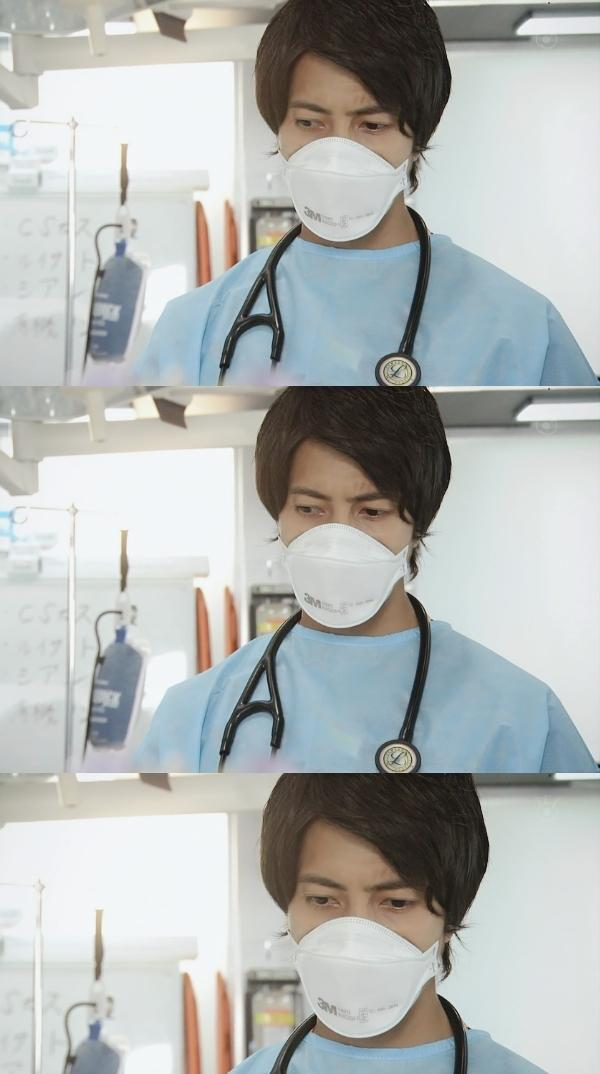OK: (265, 865, 445, 1045), (261, 84, 421, 244), (261, 484, 415, 638)
